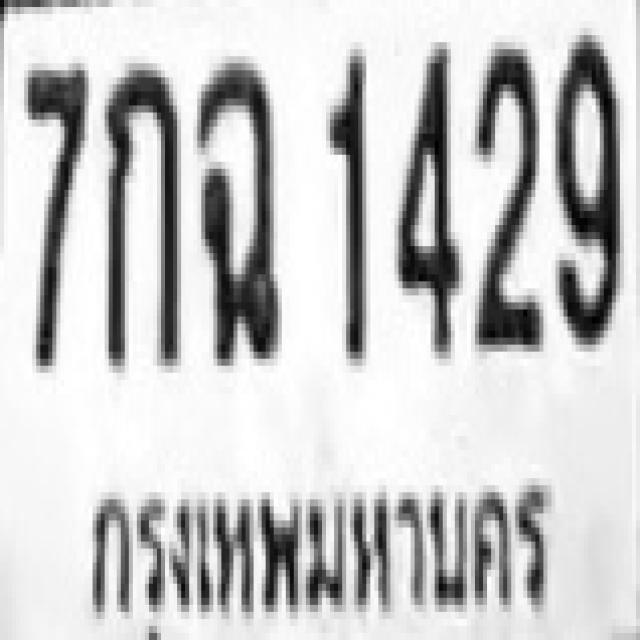0: (551, 28, 616, 338)
1: (324, 46, 364, 362)
2: (469, 42, 537, 345)
4: (394, 35, 455, 352)
7: (22, 56, 87, 366)
9: (551, 28, 616, 338)
A01: (101, 56, 177, 366)
A09: (193, 56, 278, 359)
BKK: (73, 467, 563, 640)
